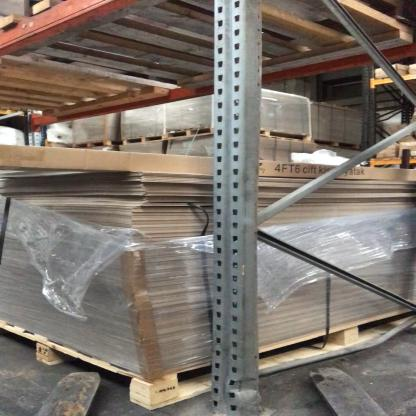vertical_damage: (203, 357, 274, 410)
